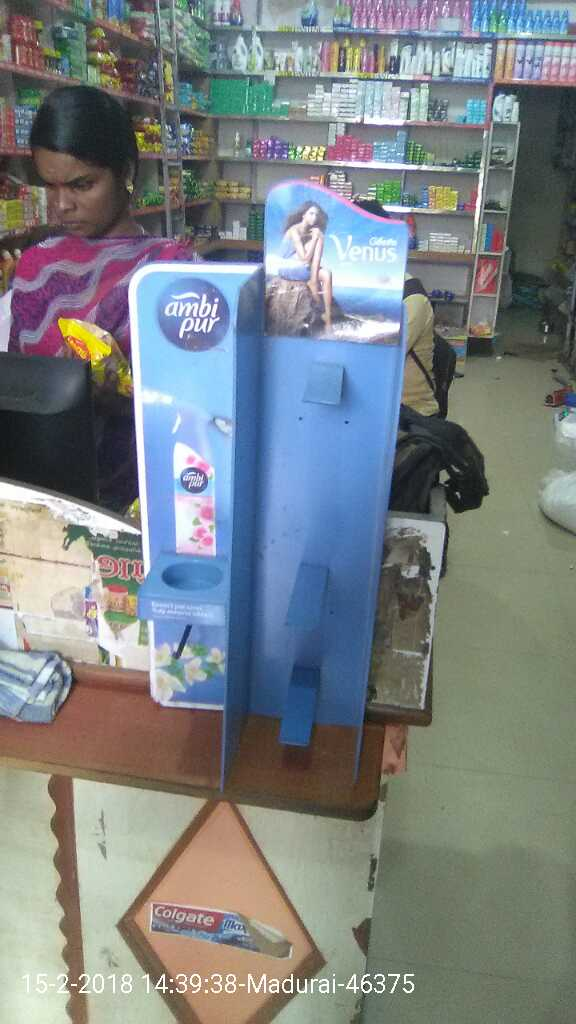reject: (34, 206, 134, 290)
